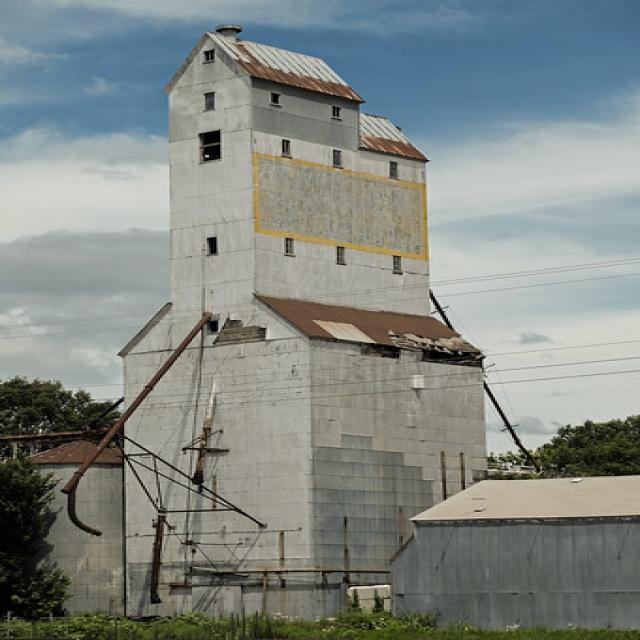Normal_building: (117, 28, 500, 618)
